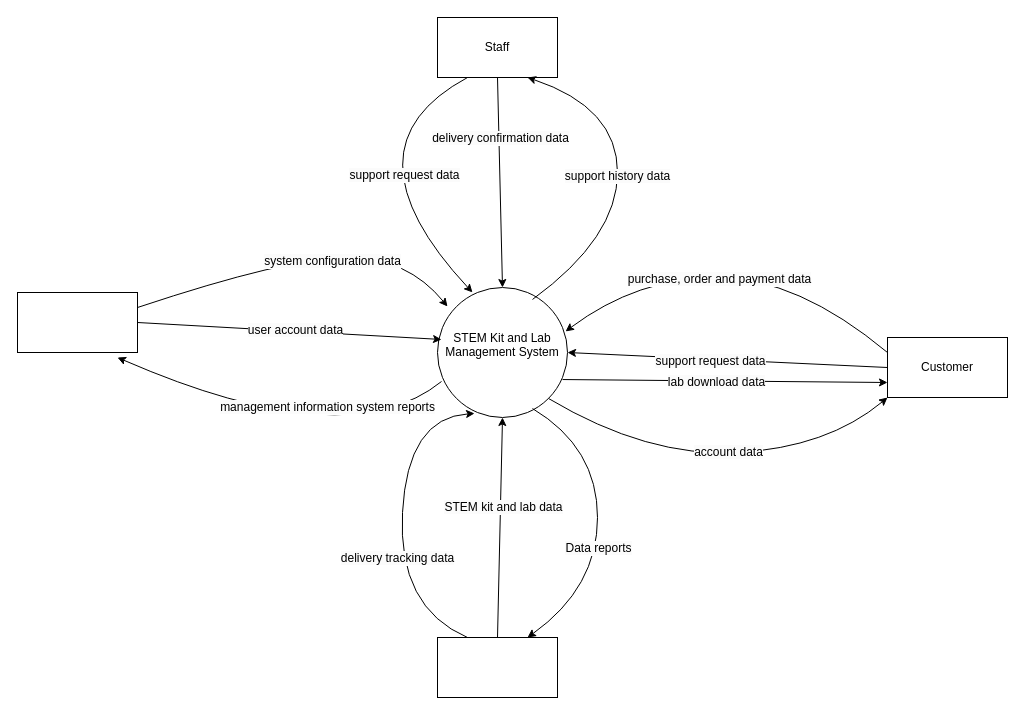
Some shapes in this 1025 by 715 pixel diagram are drawn without their labels. The shapes that lost their labels are listed below. From the top down, each one's box as (x1, y1, x2, y2) in pixels, then its label:
(16, 292, 138, 352): Admin
(436, 636, 558, 698): Manager
